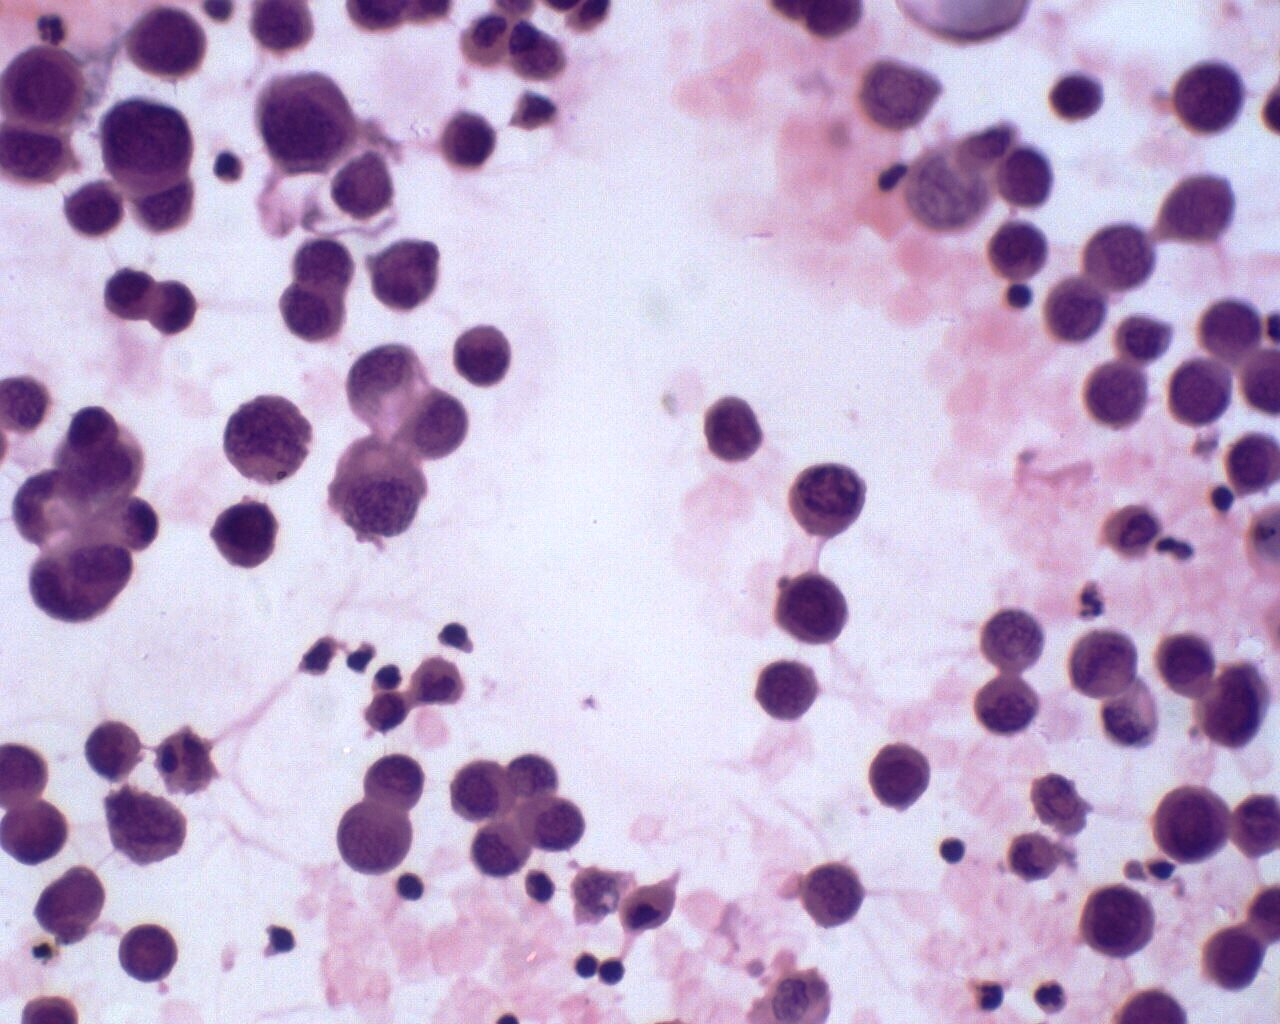ab: (257, 74, 358, 174), (97, 93, 196, 194), (97, 783, 193, 869), (1148, 779, 1234, 866), (1, 47, 90, 130), (788, 455, 866, 543), (328, 802, 412, 877), (1080, 882, 1160, 958), (1171, 57, 1247, 138), (776, 569, 851, 648), (1163, 355, 1237, 434), (1069, 625, 1141, 698), (801, 859, 868, 937), (867, 739, 934, 815), (210, 497, 280, 569), (1083, 355, 1149, 430), (514, 792, 587, 858), (701, 395, 769, 465), (986, 216, 1056, 283), (1040, 274, 1106, 345), (275, 280, 348, 344), (1156, 630, 1223, 699), (753, 656, 820, 724), (449, 322, 516, 389), (448, 758, 514, 824), (440, 108, 504, 177), (111, 925, 178, 990), (997, 142, 1057, 210)
lymph: (998, 283, 1034, 315), (935, 832, 965, 868)
neutro: (27, 7, 63, 49), (1034, 973, 1068, 1016)
